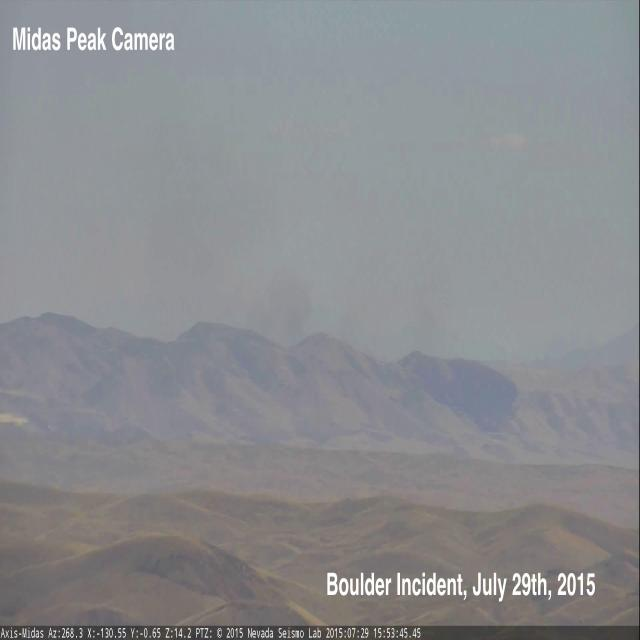smoke: (71, 124, 452, 358)
